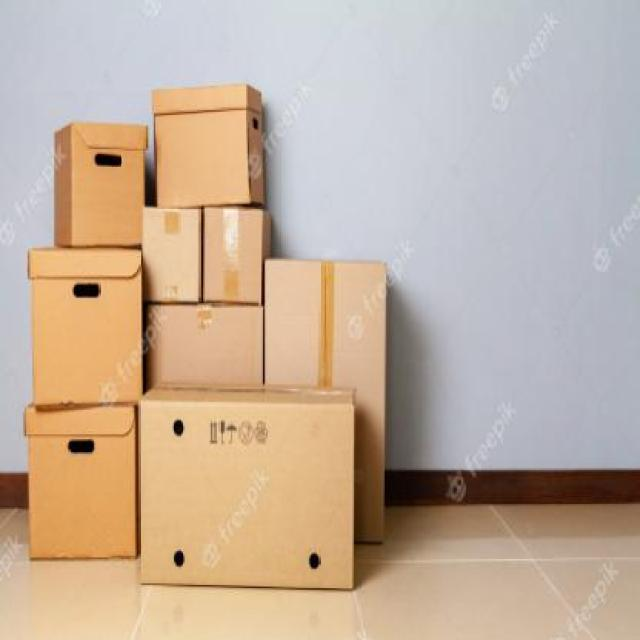box: (134, 377, 361, 595), (260, 253, 392, 549), (16, 390, 141, 570), (21, 237, 148, 408), (150, 72, 268, 212), (48, 113, 154, 256), (142, 300, 270, 393), (199, 204, 278, 311), (141, 204, 201, 308)
